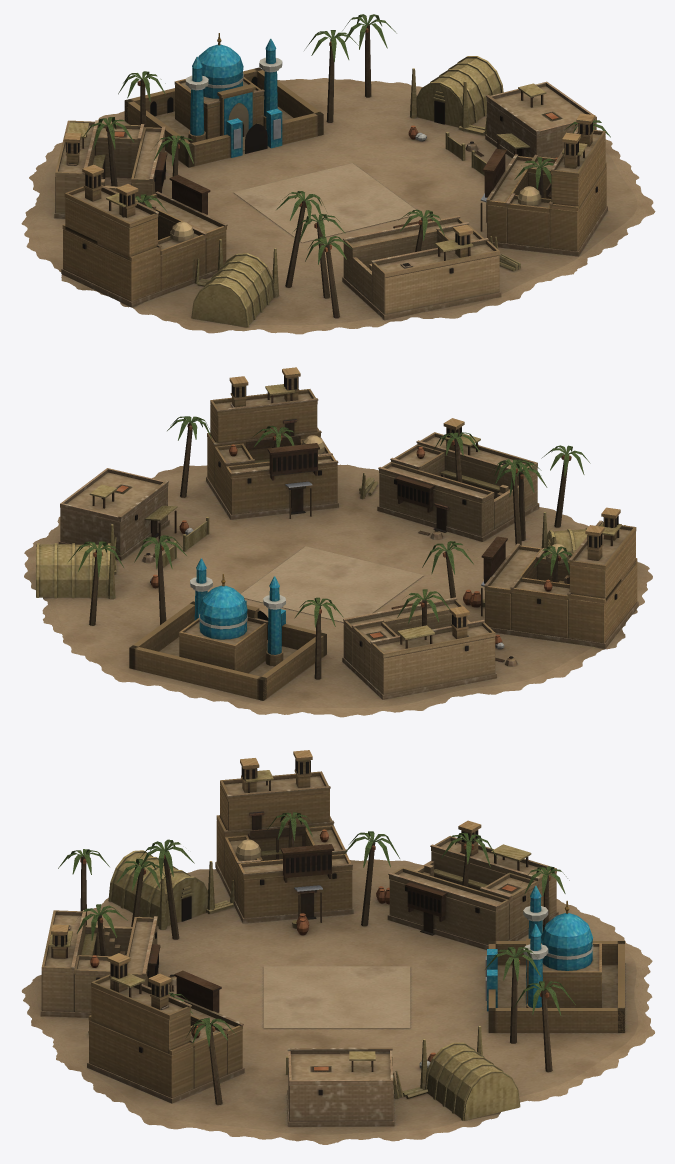
Rendered from gunpowder-town-small-a-mesopotamia.glb.
The picture shows the model from 3 angles, top to bottom: view 1: azimuth 30°, elevation 25°; view 2: azimuth 150°, elevation 25°; view 3: azimuth 270°, elevation 25°; orthographic projection. The views are drawn at different scales.
Visible parts, largest first — view 1: LOD0; view 2: LOD0; view 3: LOD0.
Part boxes in pixels (left/top/right/bottom): LOD0: left=21, top=14, right=655, bottom=334; LOD0: left=24, top=367, right=652, bottom=717; LOD0: left=21, top=750, right=654, bottom=1144.
Size of what is drawn, in the model's own units: 3.98 by 0.75 by 3.71.
3 materials, 3 textured.
